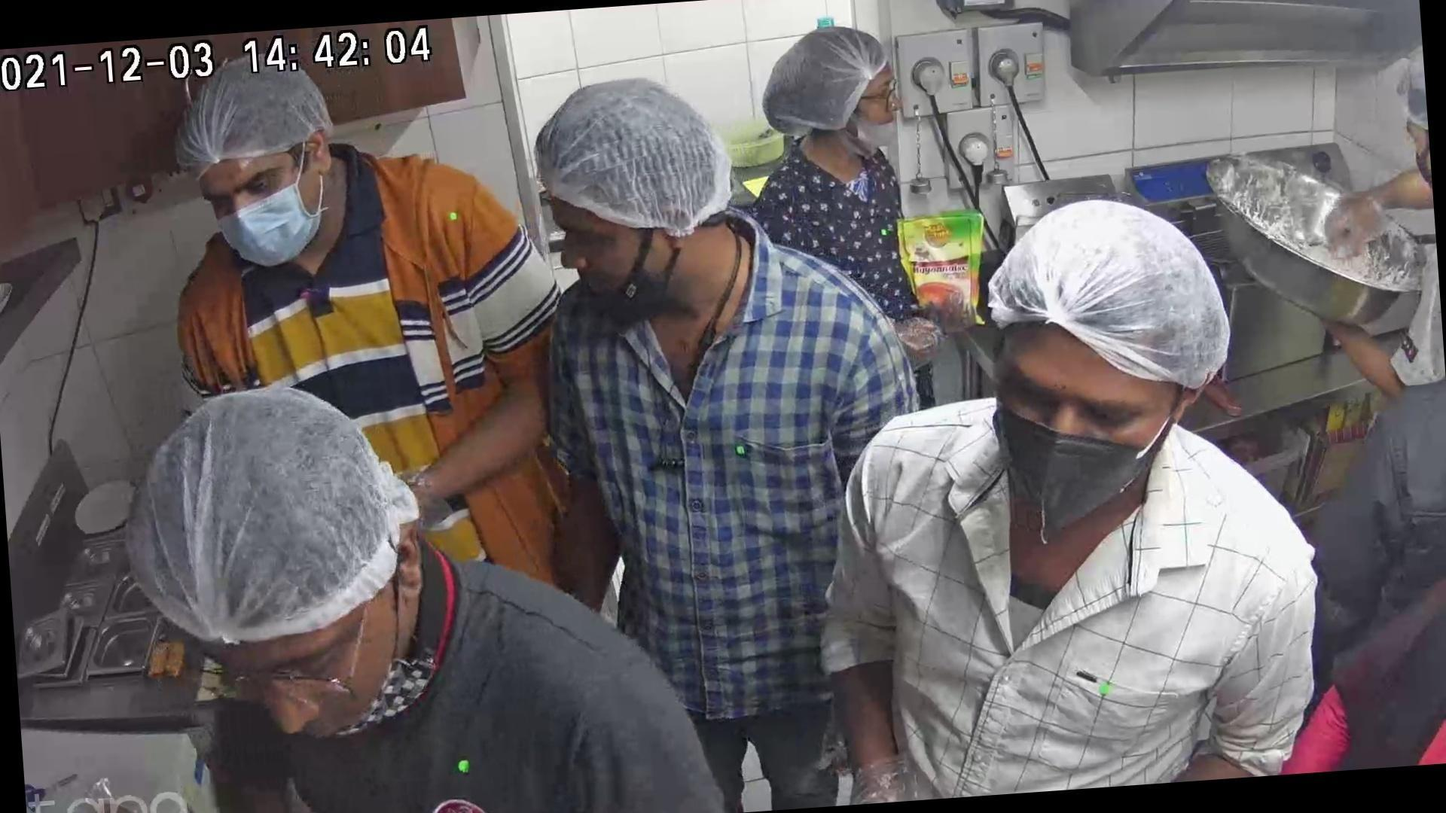apron: (839, 731, 927, 804), (1296, 194, 1394, 258), (885, 309, 952, 370)
gloves: (985, 189, 1244, 400), (134, 420, 401, 603), (528, 79, 742, 221), (159, 59, 340, 169), (761, 23, 871, 139)
mask: (1002, 371, 1137, 516), (211, 171, 324, 258)
no_hairnet: (208, 641, 371, 731), (548, 199, 655, 299), (856, 65, 899, 145)
